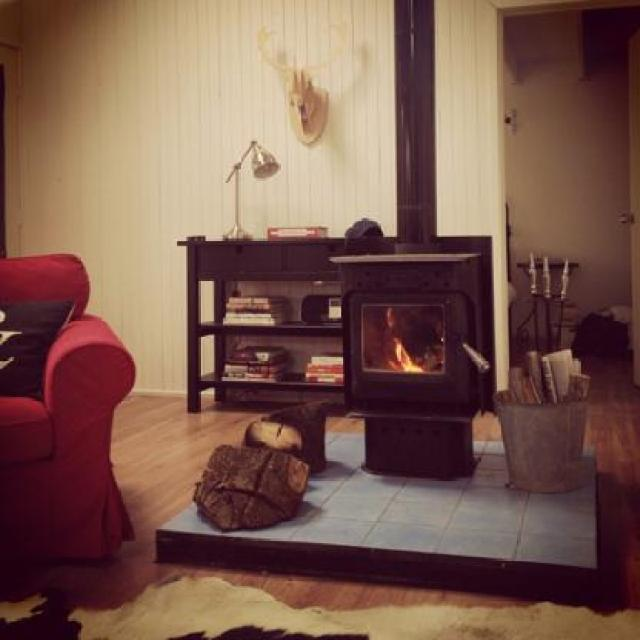Fire: (388, 338, 420, 372), (384, 306, 398, 332)
